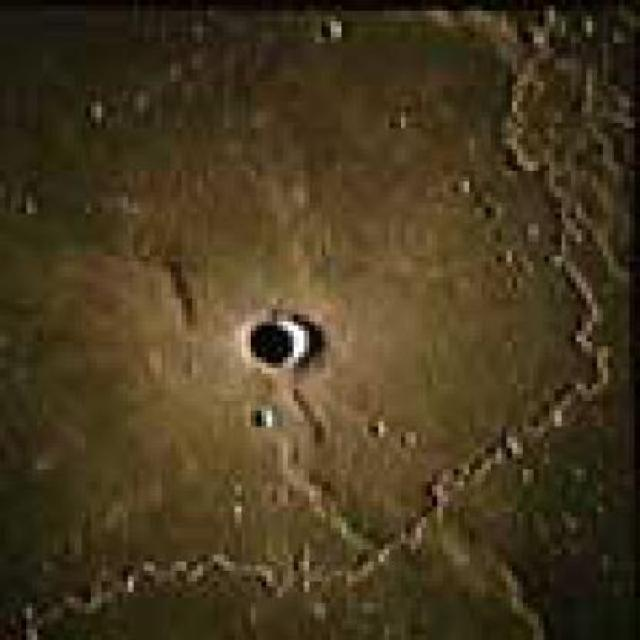crater: (242, 322, 296, 368)
